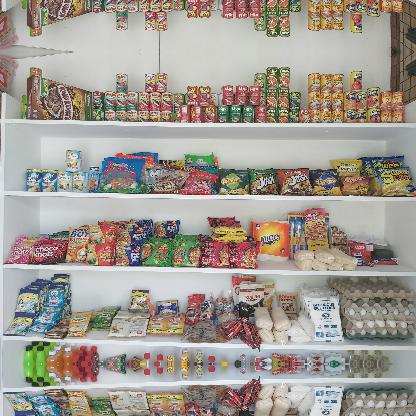Koko-Krunch: (26, 74, 92, 120), (26, 0, 92, 30)
